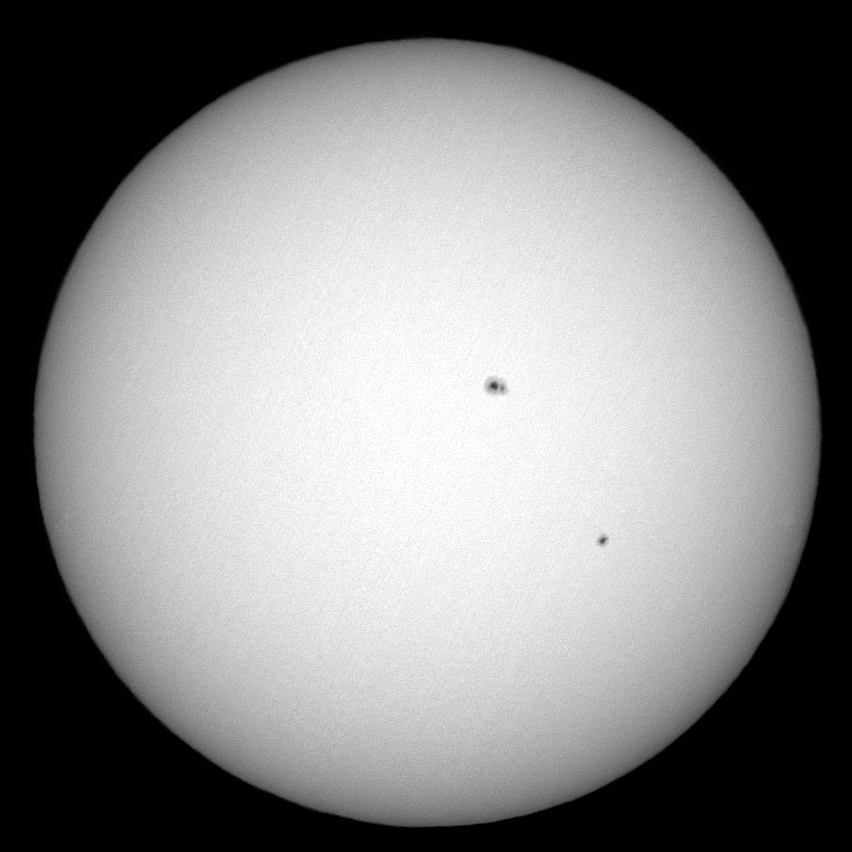sunspot: (481, 374, 510, 396), (598, 534, 611, 550)
